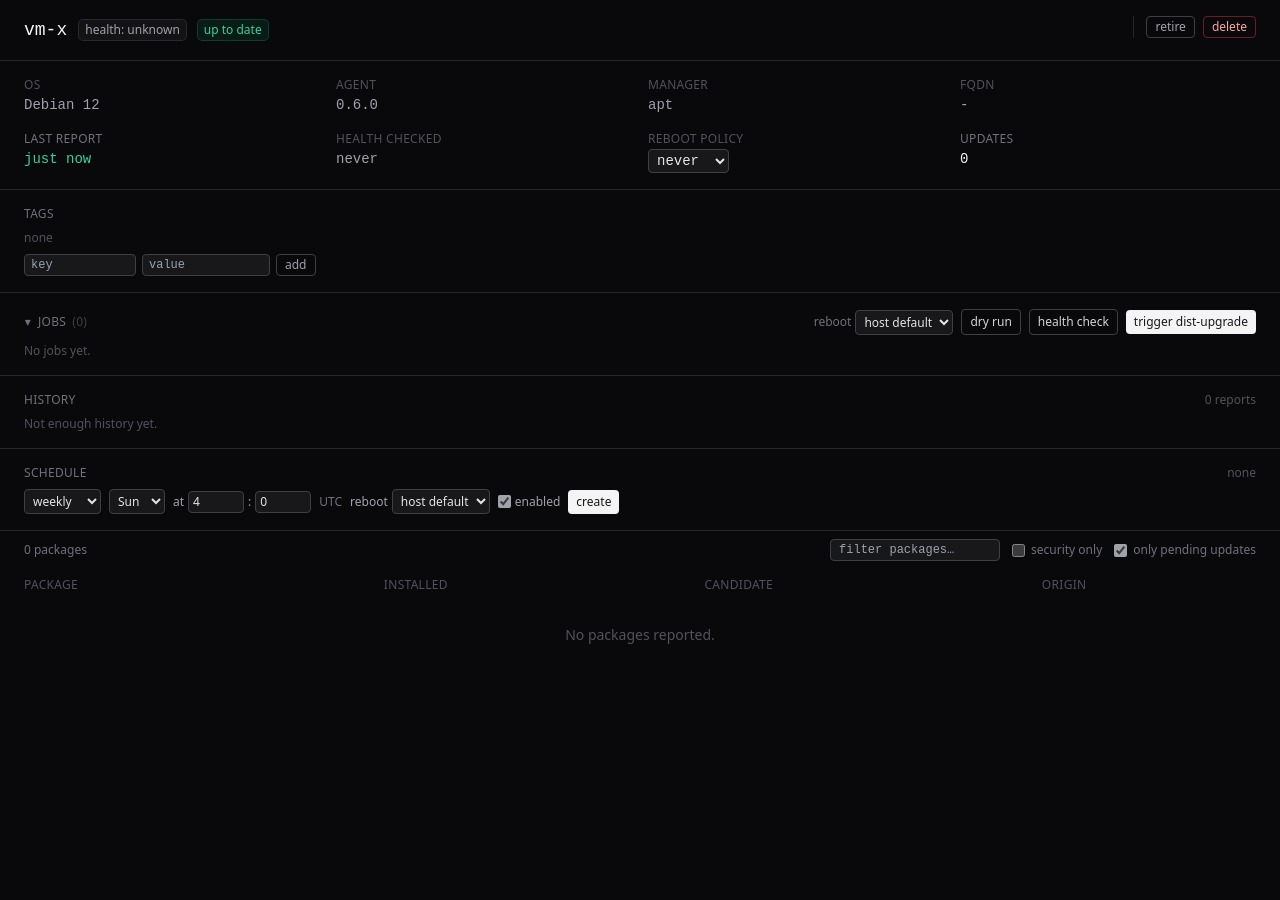
Test: HostDetail destructive confirmation › keeps the draft and shows the existing error when Save fails
Select "auto" in the dropdown named "Reboot policy". click: (688, 161)
box: top-left (648, 149), bottom-right (729, 173)
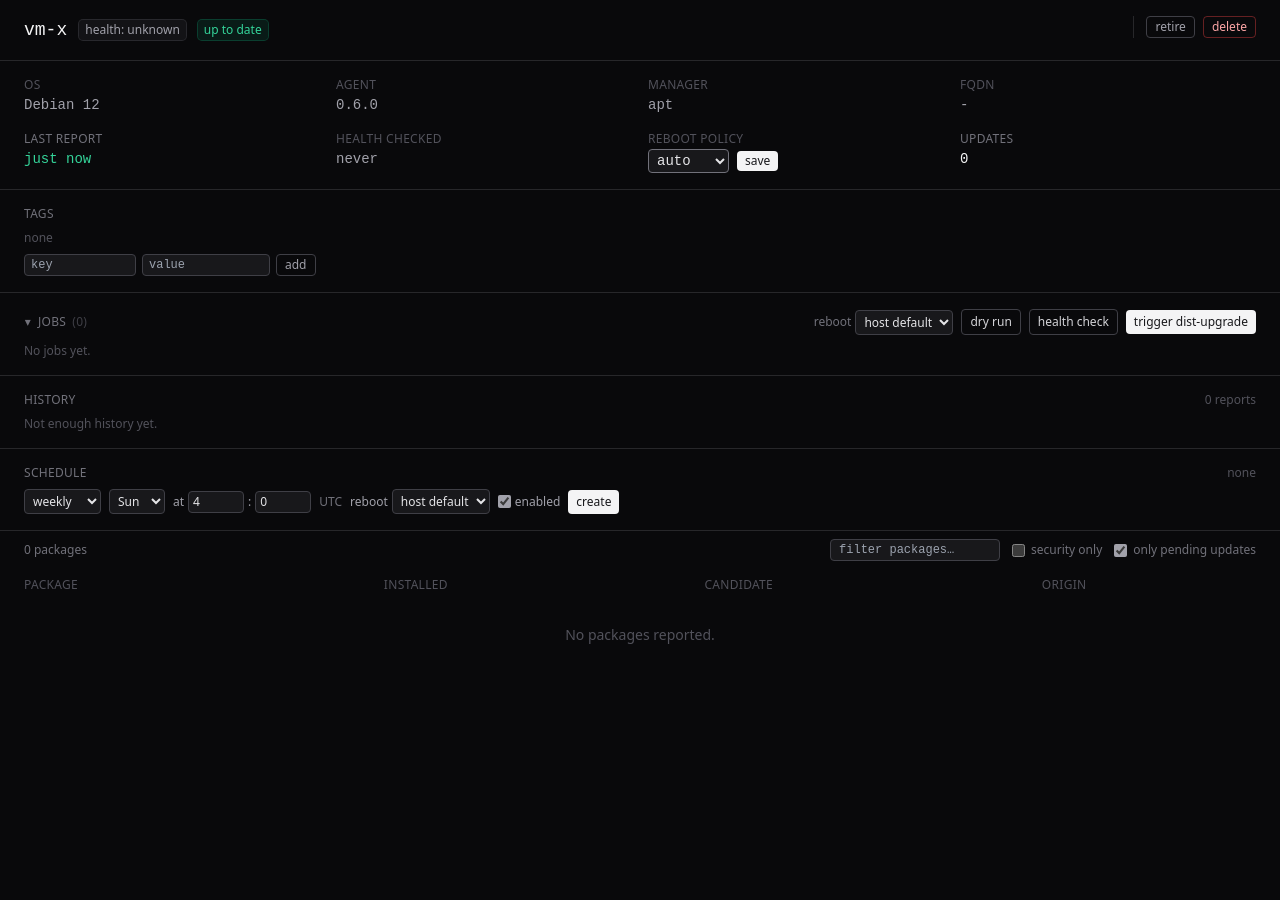
Click the button "save". click: (758, 161)
box: top-left (737, 151), bottom-right (778, 171)
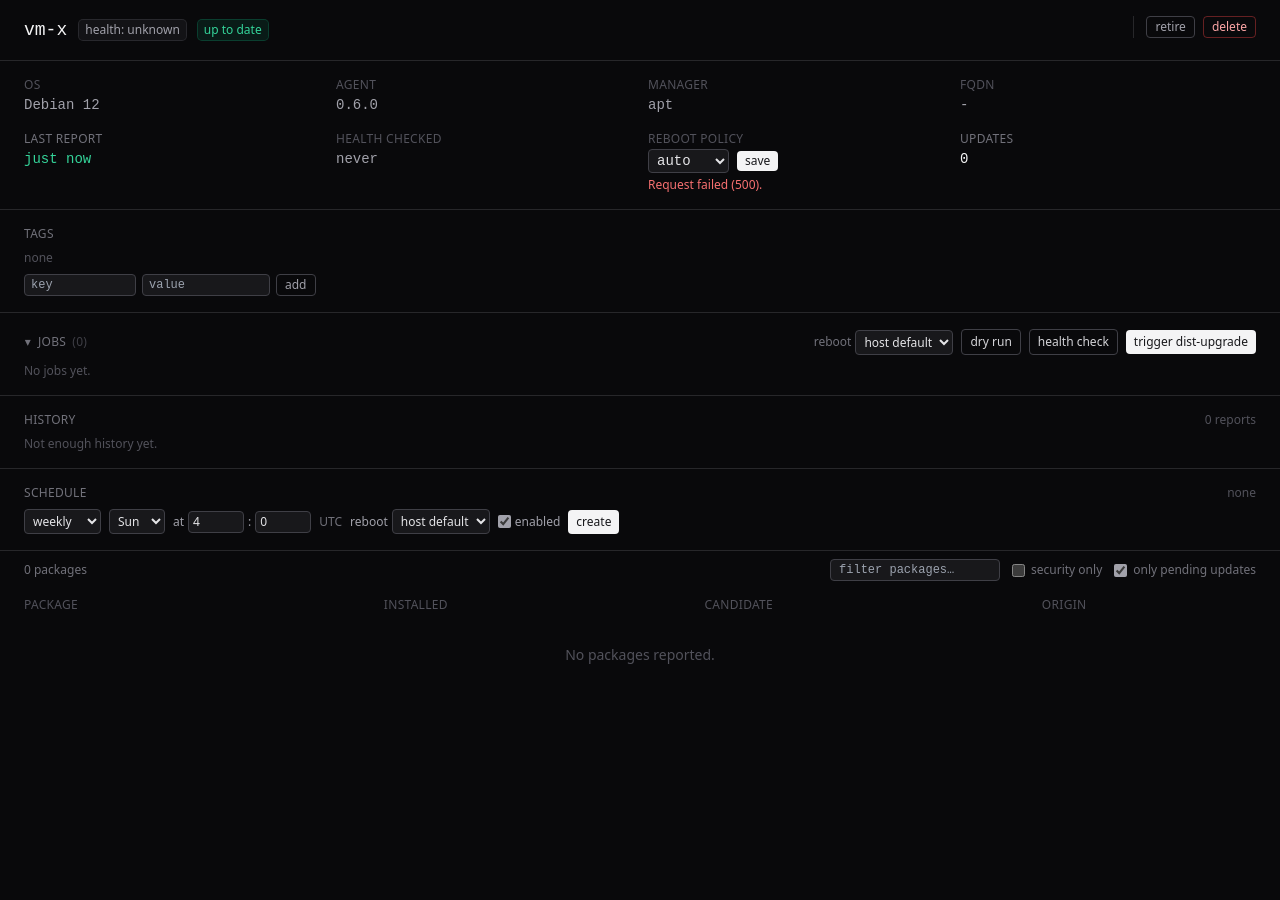
Check: the text "Request failed (500)." is shown, box top-left (648, 176), bottom-right (762, 193)
